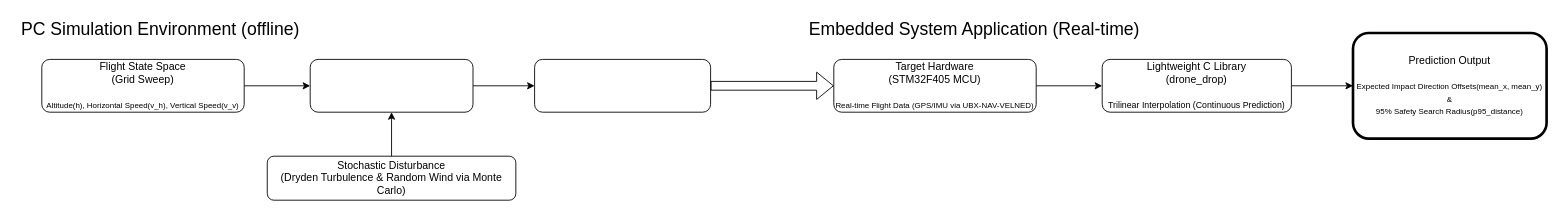
Image size: 1563x216. Some labels were removed from this diagram. Here are the shapes that lost their labels. From the top down, the centre of each, then its label:
At point 391,85: "6DOF Rigid-Body Simulation (BepuPhysics2)".
At point 622,85: "Statistical Analysis Calculate Mean, Std Dev, and p95 Safety Radius".
